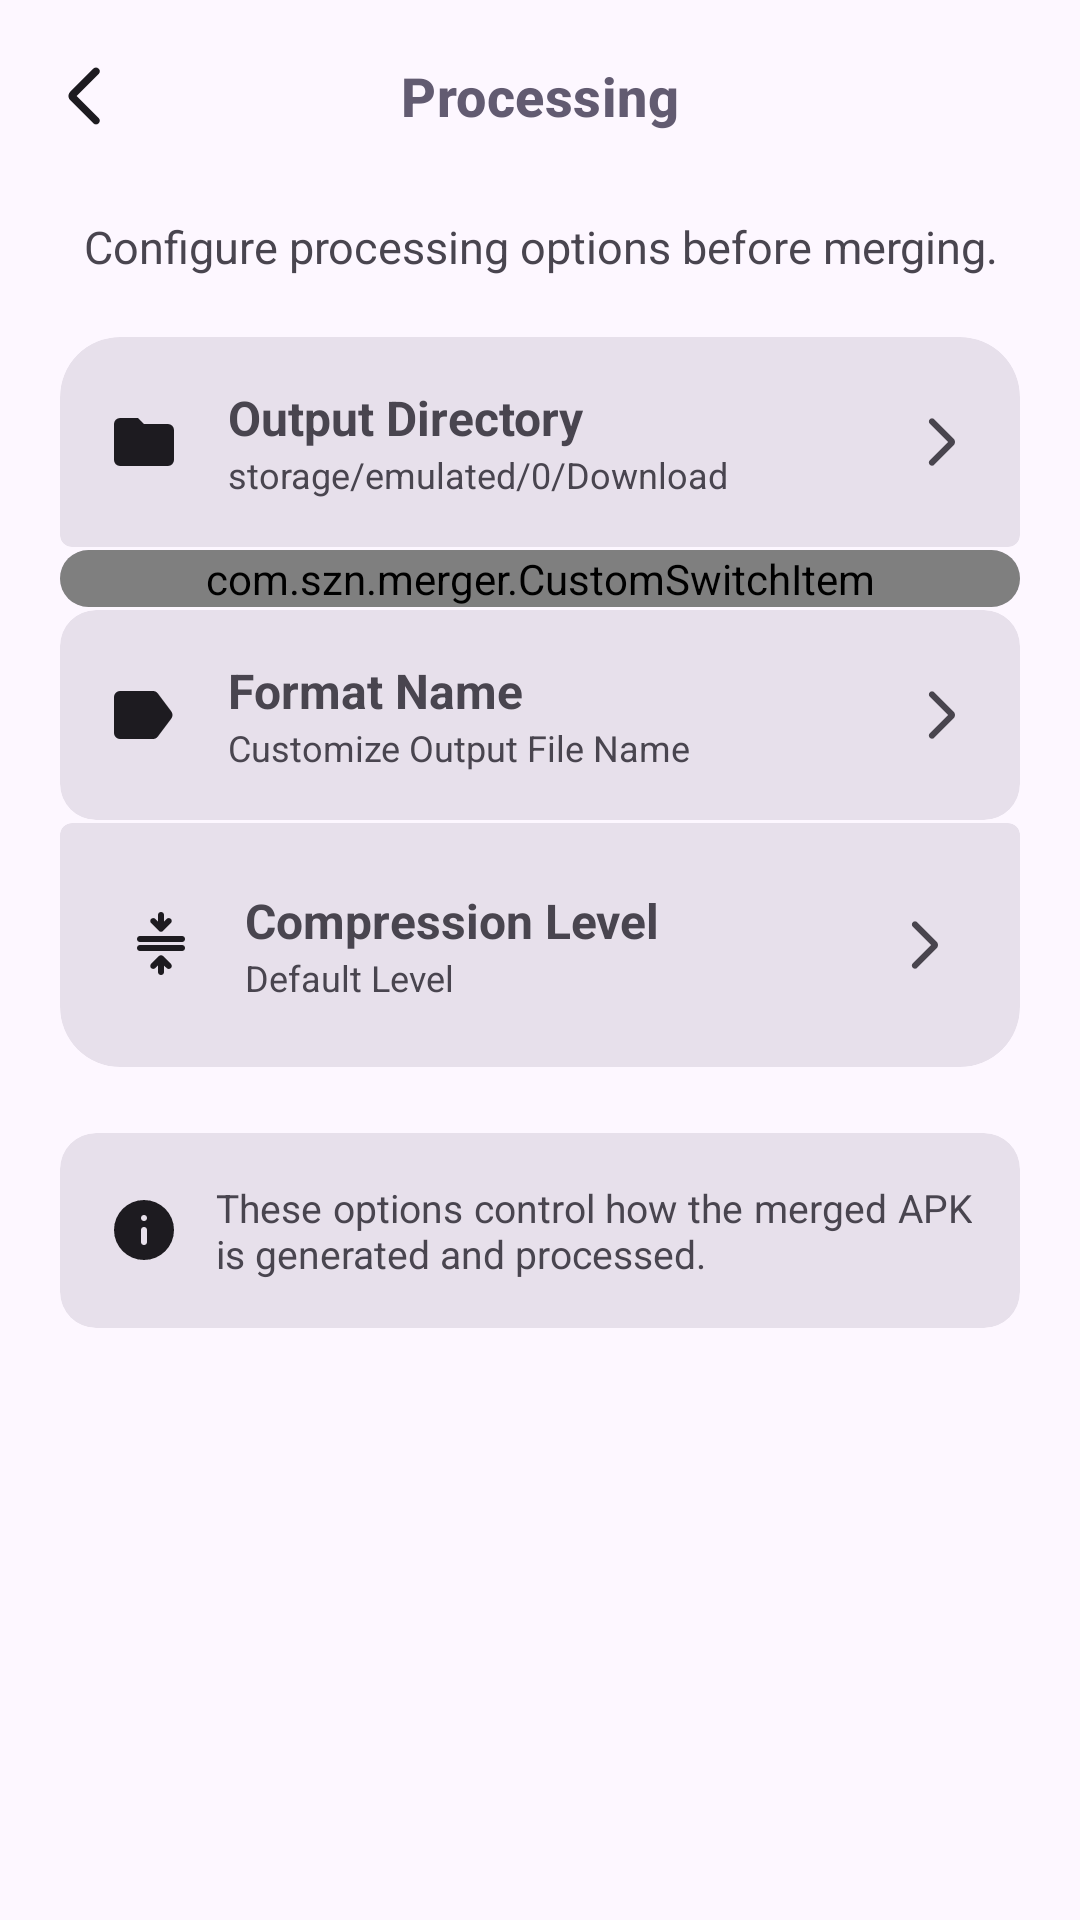

Screen size 1080 × 1920. Icon name, then its box in pixels as [x1, y1, x2, y2]:
folder: [114, 418, 174, 466]
info: [114, 1200, 174, 1260]
label: [114, 691, 173, 739]
